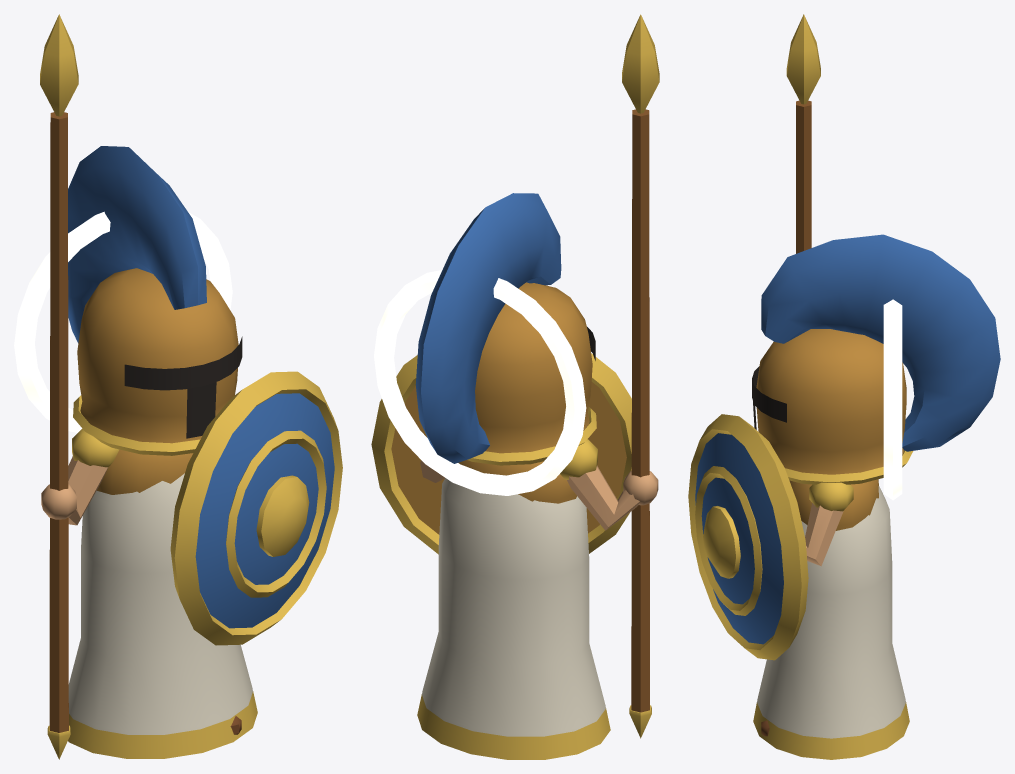
File: godWarrior.glb
3 renders of one model, left to right at view 1: azimuth 30°, elevation 25°; view 2: azimuth 150°, elevation 25°; view 3: azimuth 270°, elevation 25°, orthographic. The views are drawn at different scales.
Parts seen in each view (by area): view 1: godWarrior; view 2: godWarrior; view 3: godWarrior.
Boxes of the visible parts, x1=… form: godWarrior: x1=14, y1=14, x2=342, y2=759; godWarrior: x1=371, y1=14, x2=659, y2=759; godWarrior: x1=688, y1=14, x2=1000, y2=759.
Size of the model in its own units: 0.6406 by 1.53 by 0.6598.
